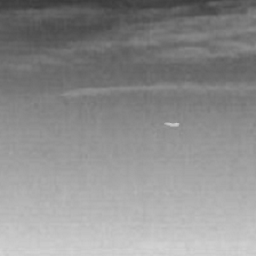Target: (163, 121, 180, 128)
